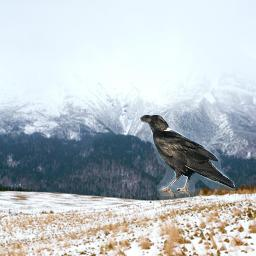Crow: (139, 113, 235, 200)
